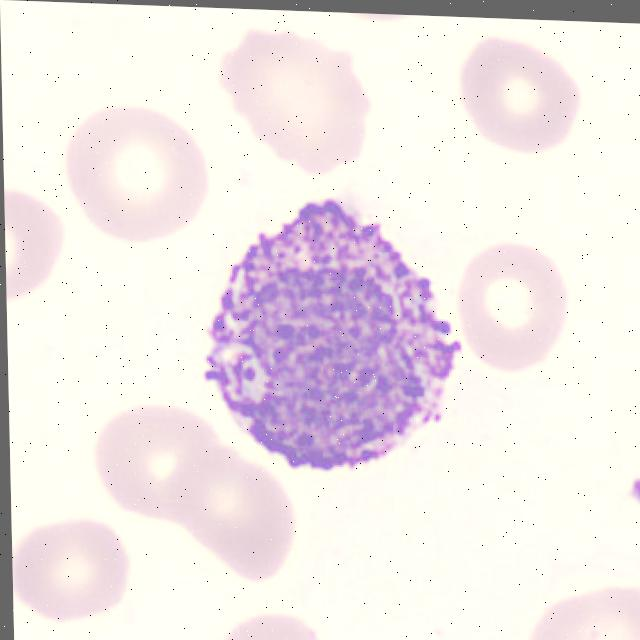basophil: (201, 168, 475, 483)
rbc: (60, 74, 226, 252), (219, 22, 402, 178), (89, 401, 237, 534), (446, 230, 572, 381), (448, 33, 580, 169), (15, 496, 137, 640), (175, 453, 308, 577), (4, 177, 76, 308), (524, 571, 640, 640), (221, 597, 332, 640)
